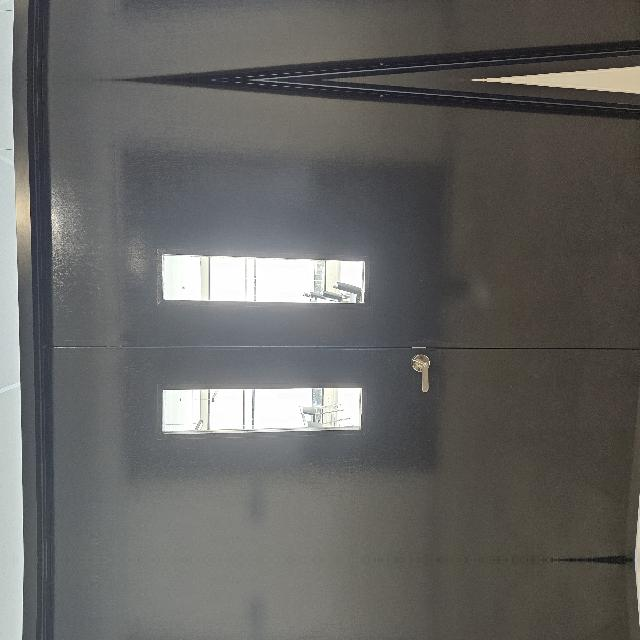door: (0, 102, 477, 640), (0, 402, 477, 640), (0, 0, 477, 58)
